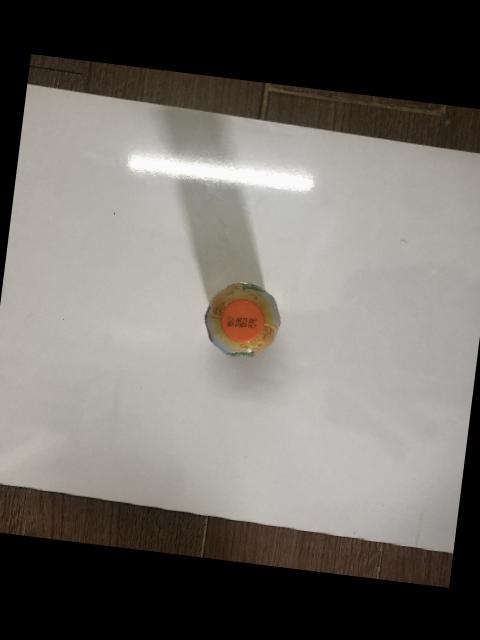teppy_orange_juice: (206, 280, 283, 356)
